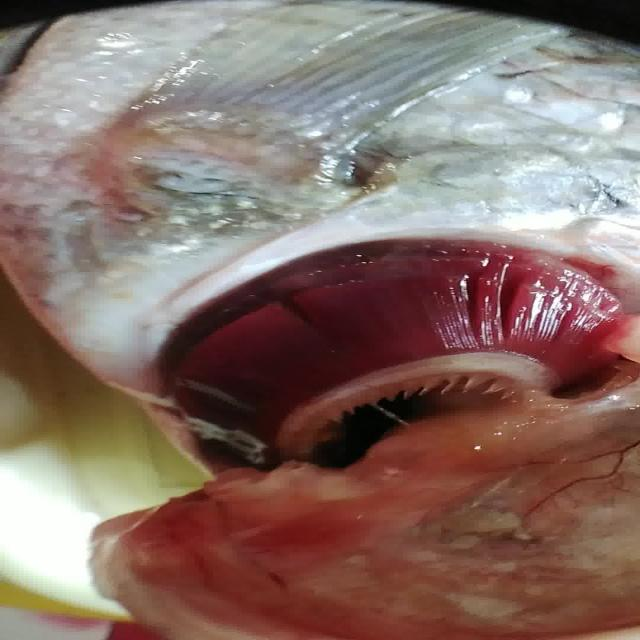Fresh: (138, 202, 616, 461)
